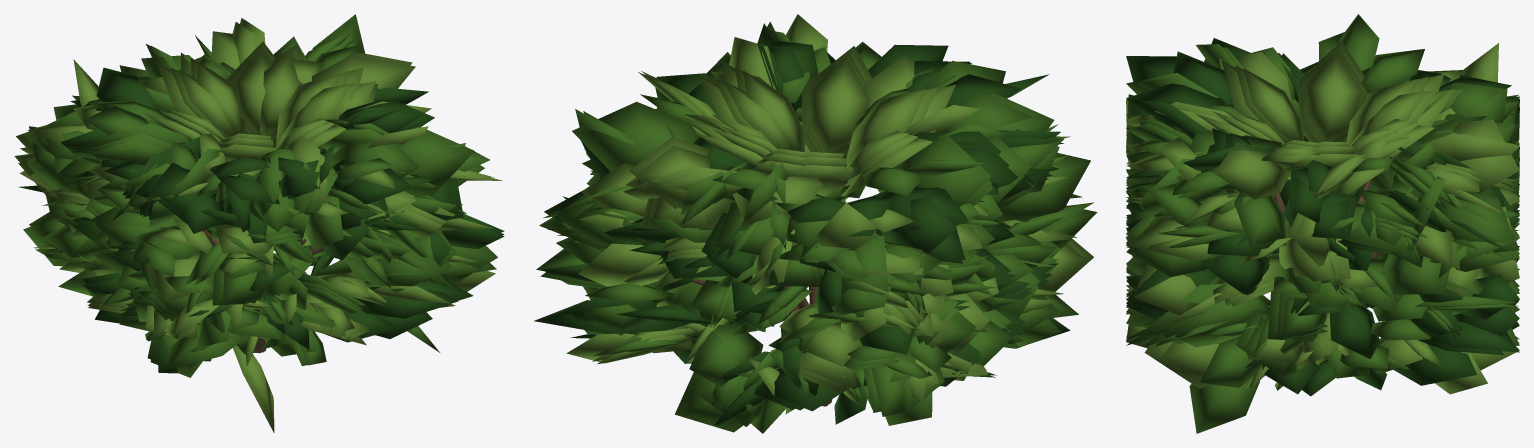
File: MV_Shrub_Round_Small.fbx
The picture shows the model from 3 angles, left to right: view 1: azimuth 30°, elevation 25°; view 2: azimuth 150°, elevation 25°; view 3: azimuth 270°, elevation 25°; orthographic projection. The views are drawn at different scales.
Parts seen in each view (by area): view 1: LOD0_Mesh, LOD1_Mesh, LOD2_Mesh; view 2: LOD0_Mesh, LOD1_Mesh, LOD2_Mesh; view 3: LOD0_Mesh, LOD1_Mesh, LOD2_Mesh.
Part boxes in pixels (left/top/right/bottom): LOD0_Mesh: left=16, top=35, right=504, bottom=373; LOD1_Mesh: left=14, top=20, right=504, bottom=424; LOD2_Mesh: left=20, top=14, right=504, bottom=432; LOD0_Mesh: left=542, top=21, right=1097, bottom=429; LOD1_Mesh: left=539, top=14, right=1094, bottom=432; LOD2_Mesh: left=534, top=30, right=1093, bottom=433; LOD0_Mesh: left=1126, top=14, right=1519, bottom=433; LOD1_Mesh: left=1126, top=38, right=1519, bottom=396; LOD2_Mesh: left=1126, top=32, right=1519, bottom=388.
Bounding box in the file's own units: 0.64 × 0.5 × 0.64.
